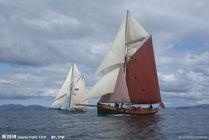fanchuan: (88, 7, 168, 119), (47, 61, 95, 116)
